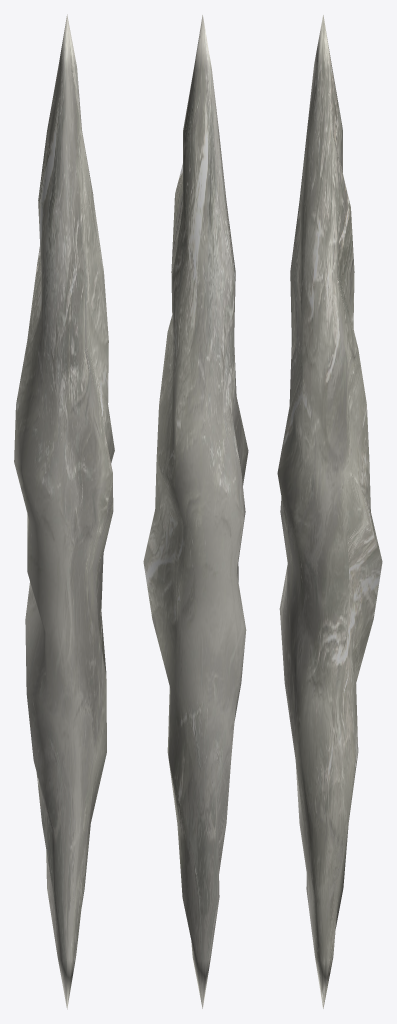
File: Icicle.fbx
The picture shows the model from 3 angles, left to right: view 1: azimuth 90°, elevation 25°; view 2: azimuth 150°, elevation 25°; view 3: azimuth 330°, elevation 25°; orthographic projection.
Visible parts, largest first — view 1: Icicle; view 2: Icicle; view 3: Icicle.
Part boxes in pixels (<box>): Icicle: <box>14,14,114,1009</box>; Icicle: <box>143,15,248,1008</box>; Icicle: <box>277,15,382,1008</box>.
Bounding box in the file's own units: 11.95 × 127 × 11.69.
